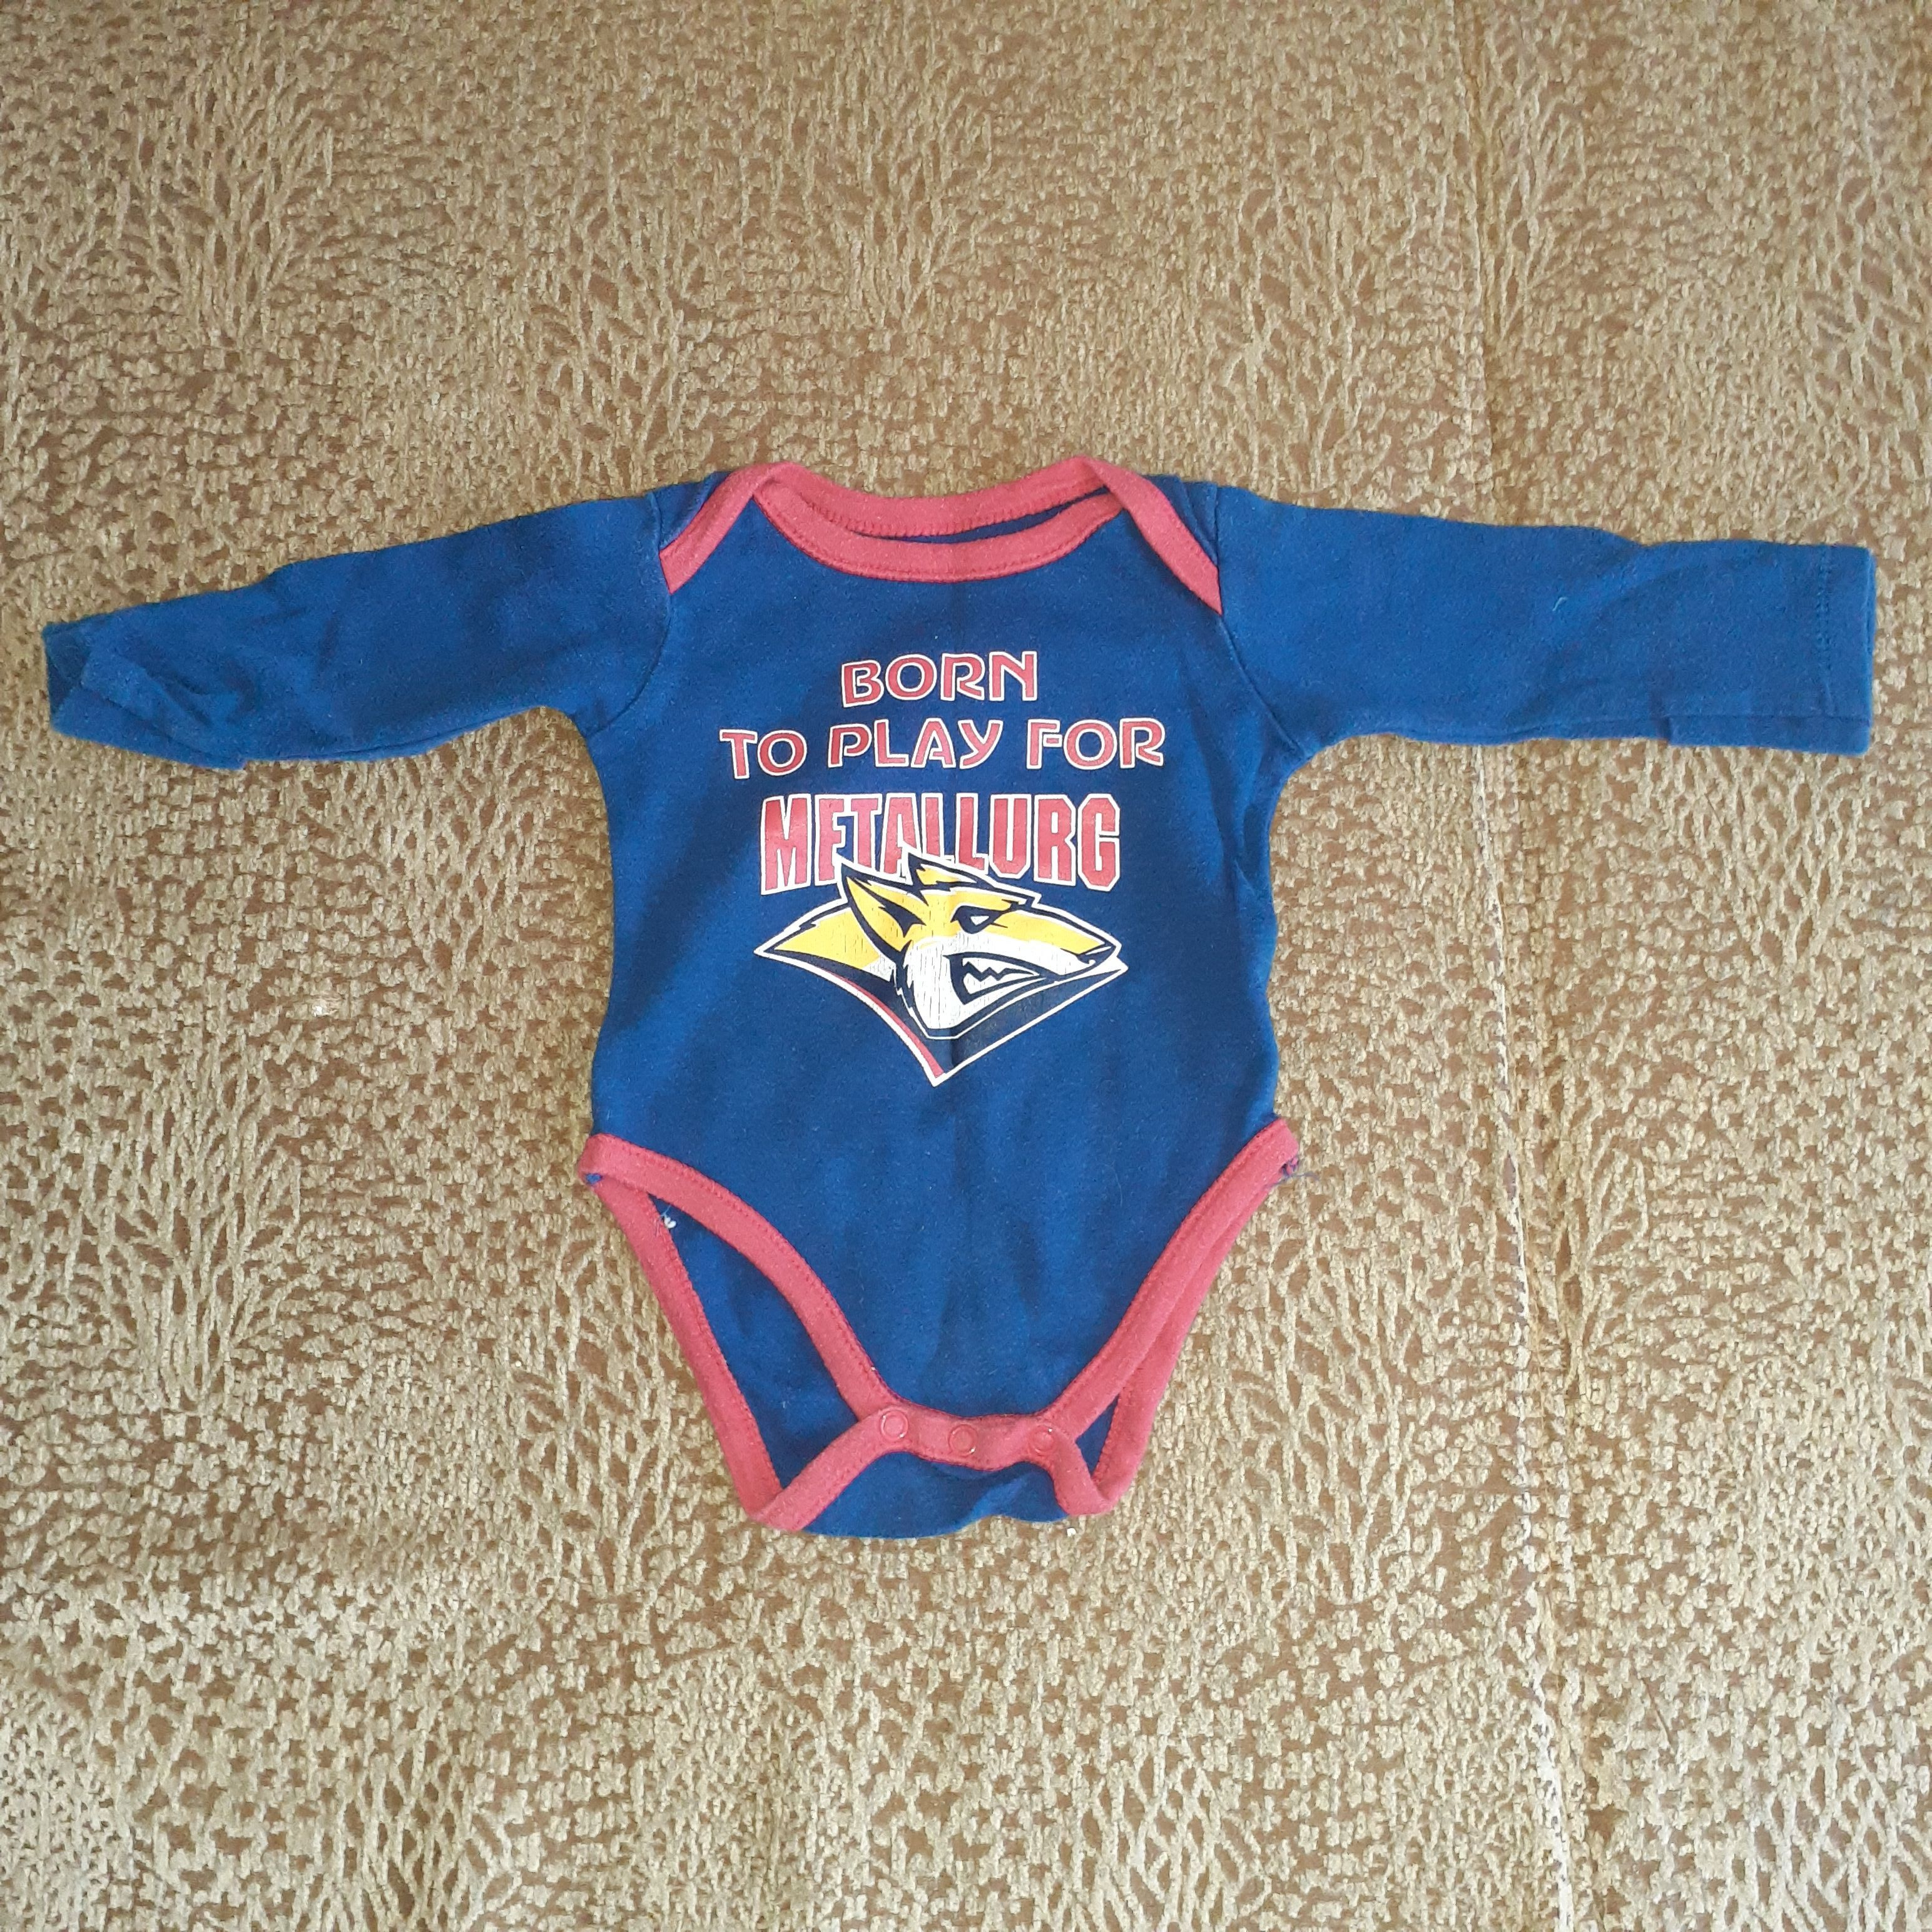clothes: (90, 488, 1895, 1564)
